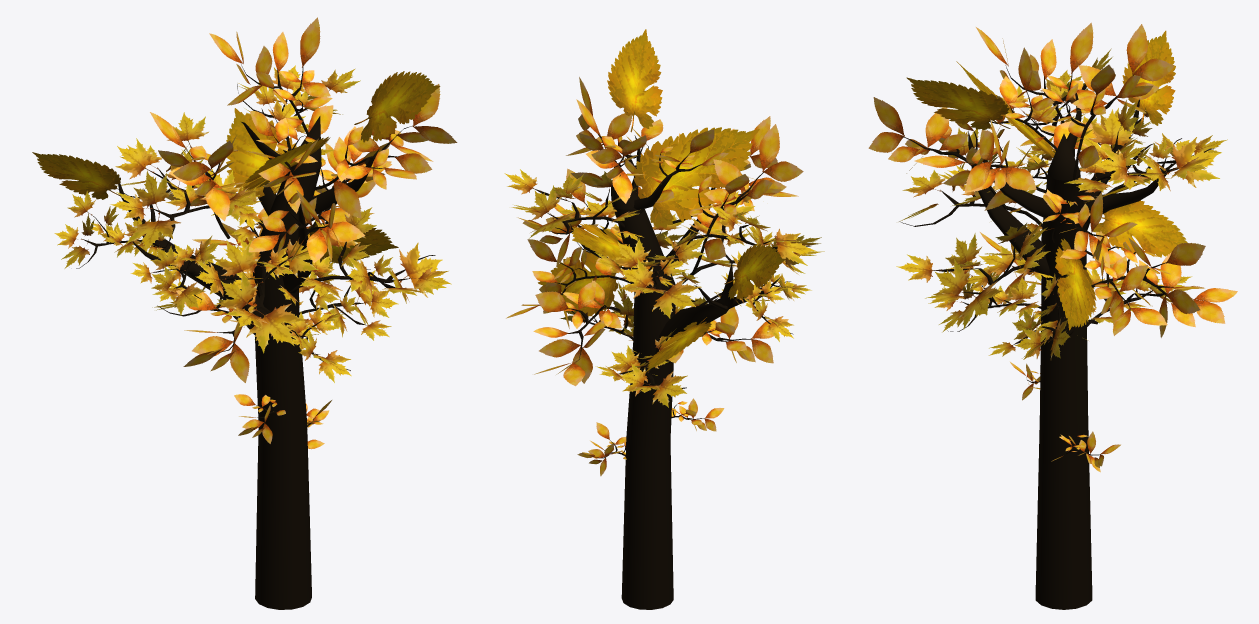
The model's file is yellowtree4.fbx.
3 renders of one model, left to right at view 1: azimuth 30°, elevation 25°; view 2: azimuth 150°, elevation 25°; view 3: azimuth 270°, elevation 25°, orthographic. The views are drawn at different scales.
Parts seen in each view (by area): view 1: purpletrees:pCylinder171; view 2: purpletrees:pCylinder171; view 3: purpletrees:pCylinder171.
Boxes of the visible parts, bbox=[...] form: purpletrees:pCylinder171: bbox=[32, 17, 457, 609]; purpletrees:pCylinder171: bbox=[504, 29, 824, 609]; purpletrees:pCylinder171: bbox=[868, 22, 1237, 609].
Bounding box in the file's own units: 24.94 × 40.08 × 23.9.
